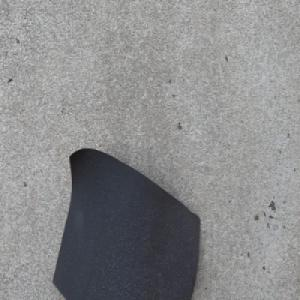PaintChip: (51, 147, 200, 300)
